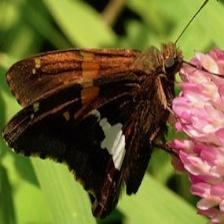butterfly: (3, 44, 184, 218)
